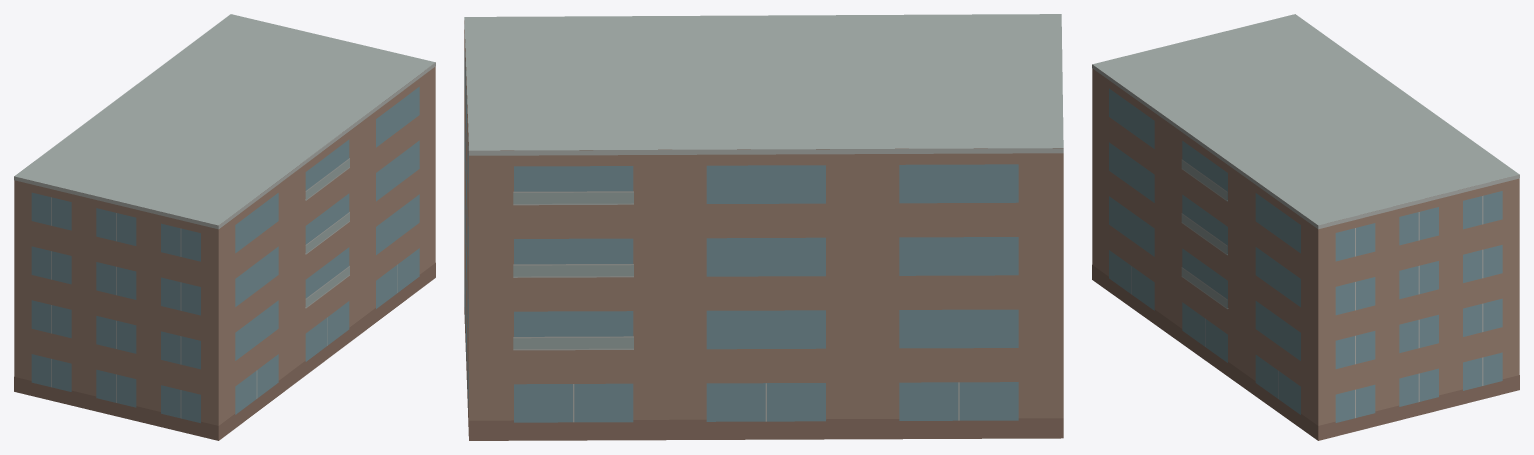
The model's file is survey-upis-32948396.glb.
The picture shows the model from 3 angles, left to right: view 1: azimuth 30°, elevation 25°; view 2: azimuth 150°, elevation 25°; view 3: azimuth 270°, elevation 25°; orthographic projection. The views are drawn at different scales.
Parts seen in each view (by area): view 1: survey-upis-32948396.tmp; view 2: survey-upis-32948396.tmp; view 3: survey-upis-32948396.tmp.
Boxes of the visible parts, x1,y1,x2,y2 form: survey-upis-32948396.tmp: [14, 14, 435, 440]; survey-upis-32948396.tmp: [464, 14, 1063, 440]; survey-upis-32948396.tmp: [1092, 14, 1519, 440].
Bounding box in the file's own units: 28.74 × 13.65 × 24.56.
